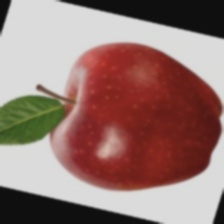apple: (22, 34, 176, 190)
